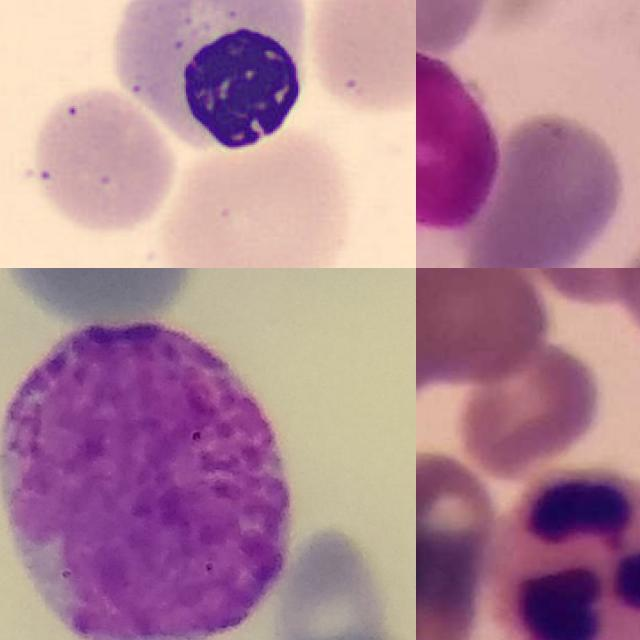Basophil: (2, 320, 292, 640)
Lymphocyte: (100, 0, 319, 161), (416, 44, 504, 268)
Neutrophil: (487, 468, 640, 640)
RBC: (153, 115, 358, 268), (26, 83, 179, 237), (303, 0, 416, 117)
